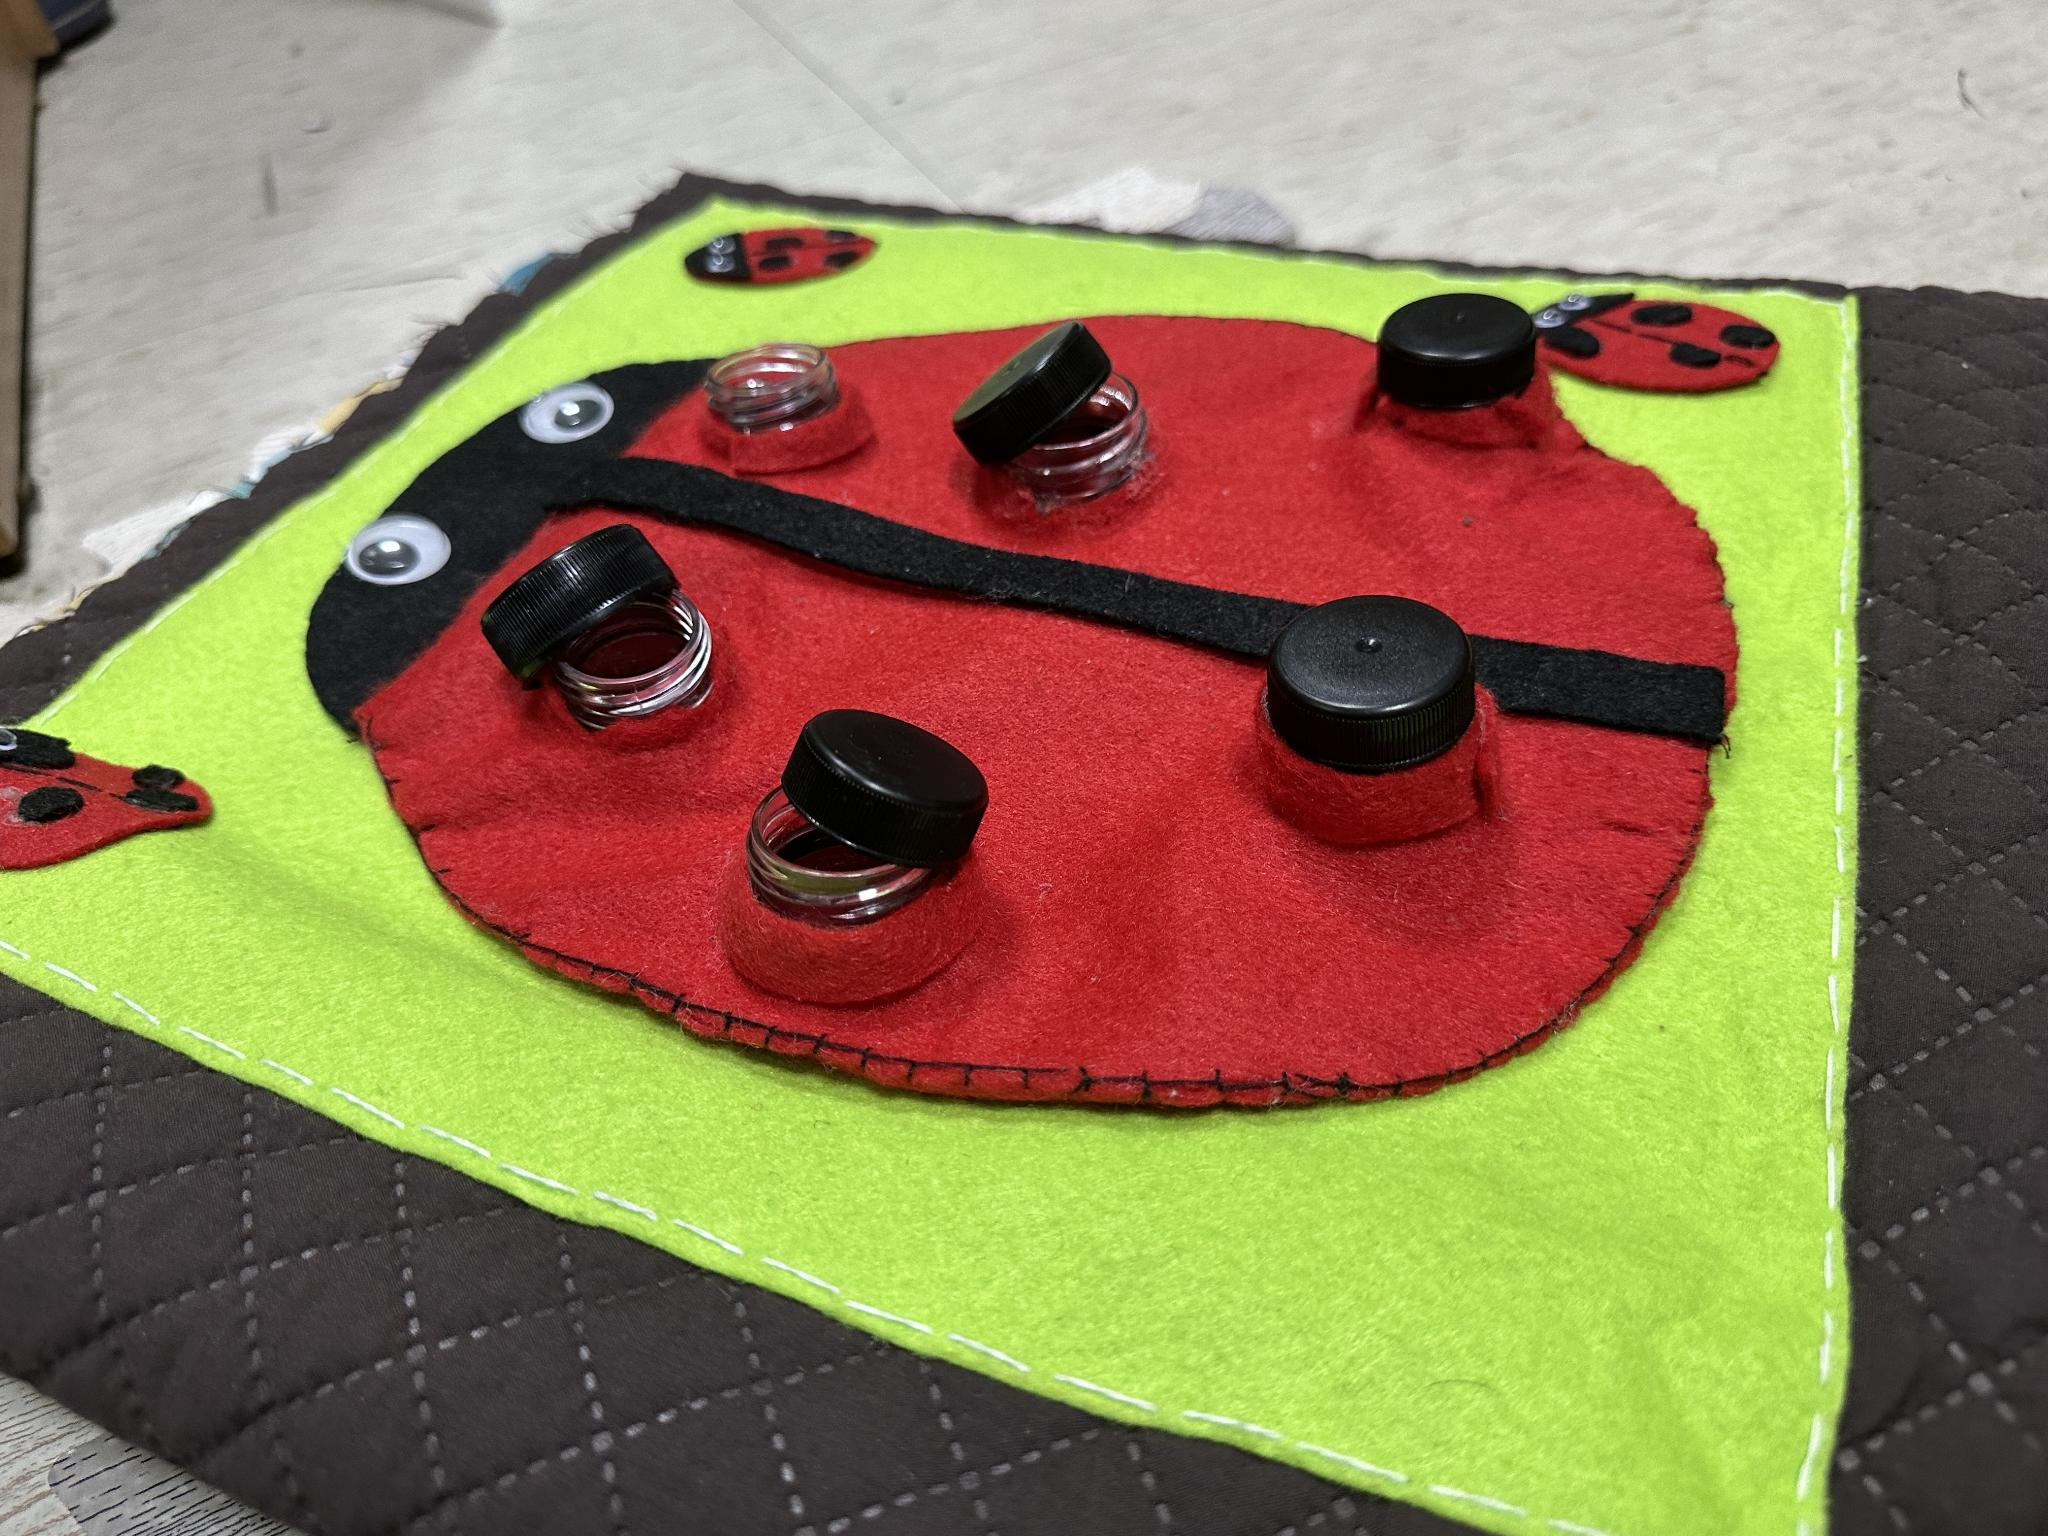cap_ng: (737, 658, 1003, 1034), (472, 513, 735, 752), (922, 318, 1184, 532)
cap_ok: (1227, 582, 1521, 854), (1358, 282, 1577, 468)
